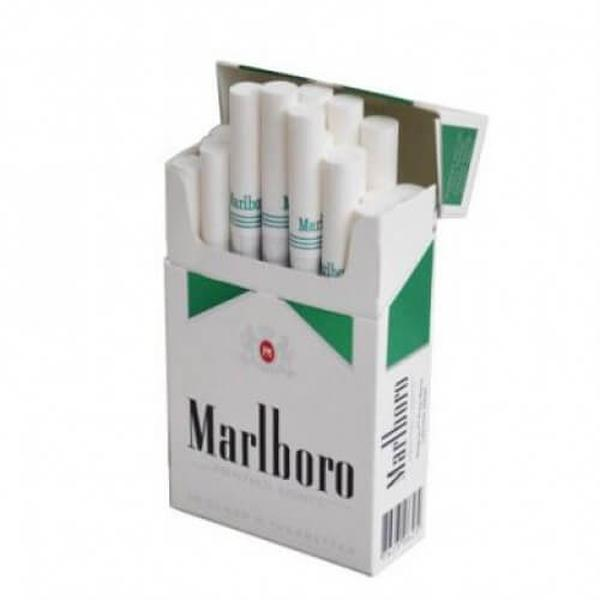marlboro_mentol: (167, 209, 375, 516)
